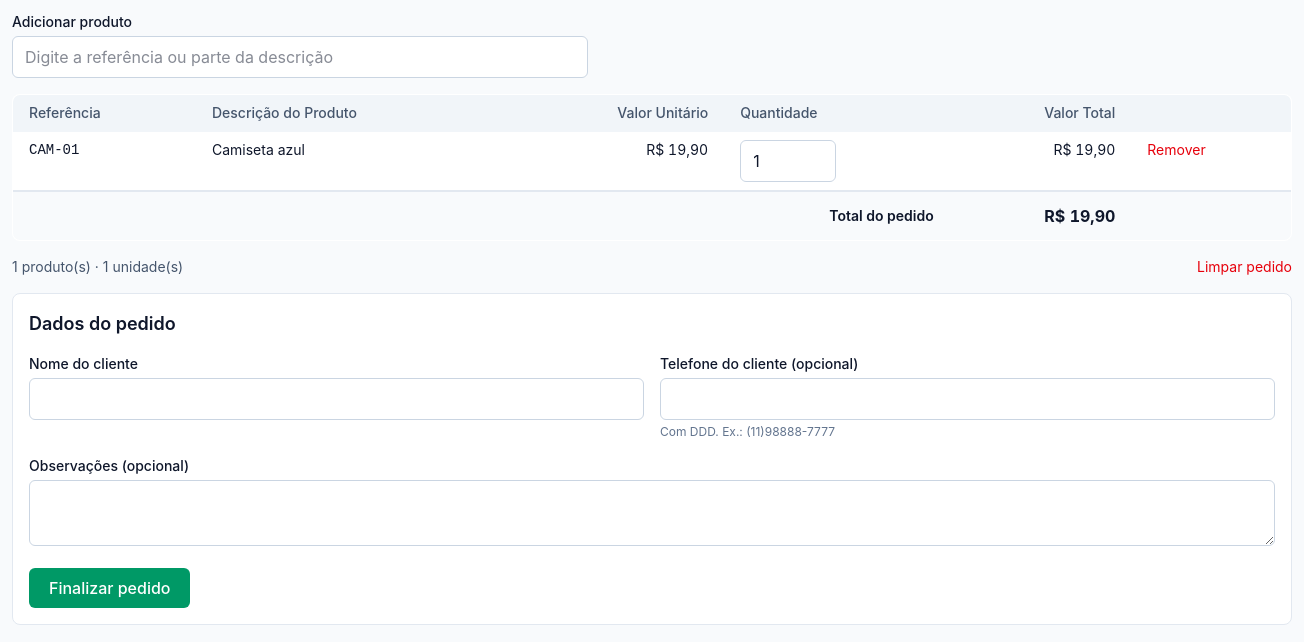
it: seletor de produtos › não sugere produtos que já estão no pedido
The image size is (1304, 642).
Type "cam" into the dropdown labelled "Adicionar produto".
click(300, 57); type("cam")  # box [12,36,588,78]
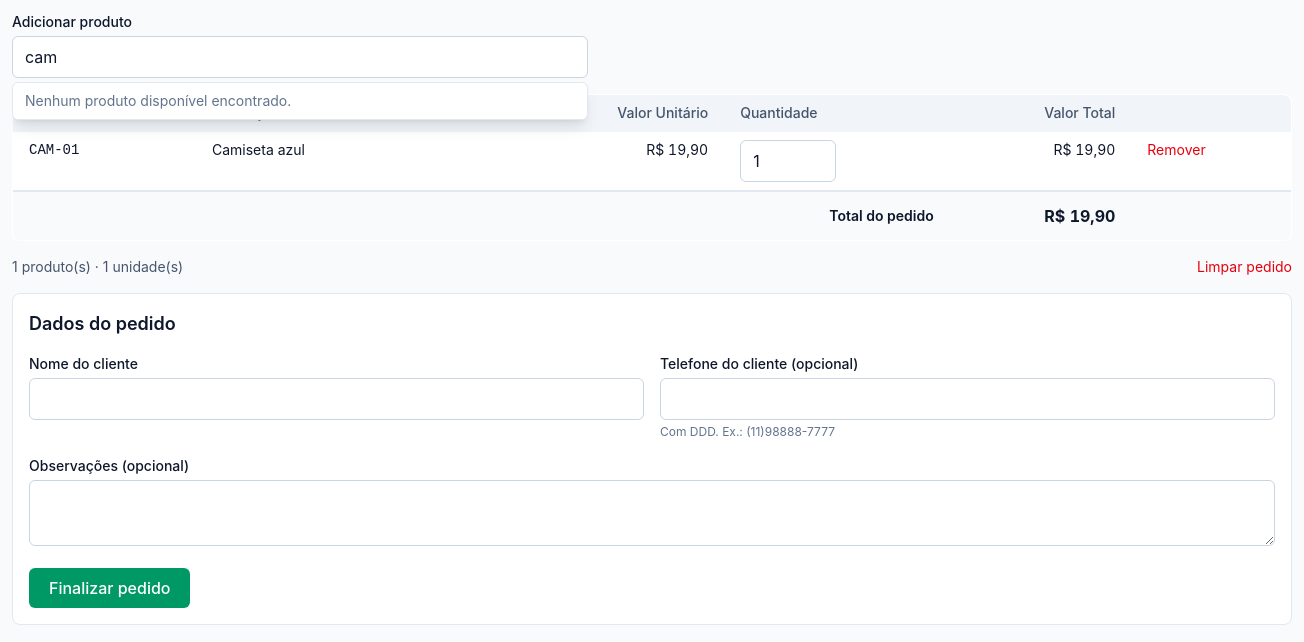
Expected: the list item with test id "no-results" is shown, [25,92,291,109]
